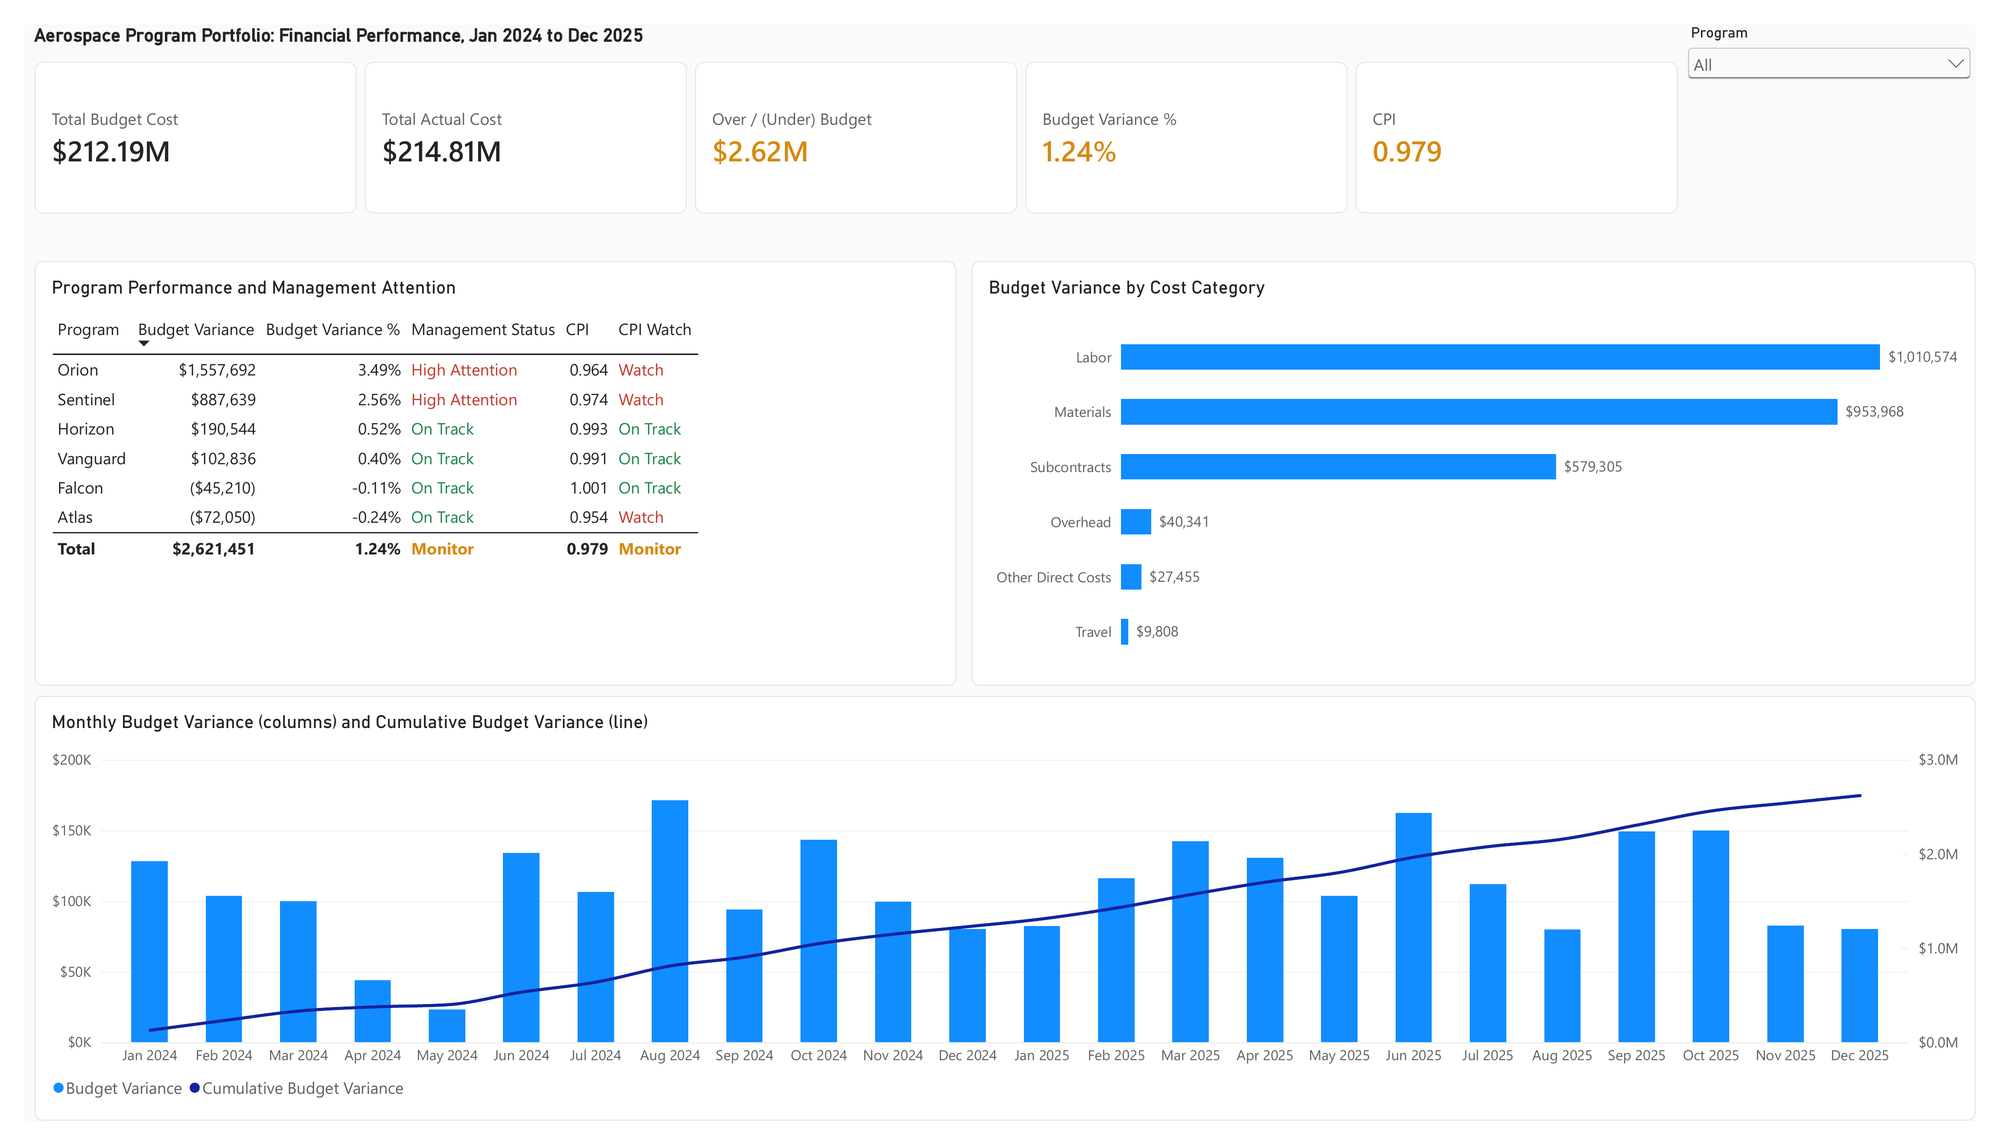

The page's visual inventory and layout, read from the dashboard file:
{"tool":"powerbi","page":{"name":"Page 1","canvas":[1920,1080],"ordinal":0},"visuals":[{"type":"cardVisual","title":"Aerospace Program Portfolio: Financial Performance, Jan 2024 to Dec 2025","fields":{"Data":["_Measures.Total Budget Cost","_Measures.Total Actual Cost","_Measures.Budget Variance","_Measures.Budget Variance %","_Measures.CPI"]},"box":[10.2,0,1621.8,186.2],"z":0},{"type":"tableEx","title":"Program Performance and Management Attention","fields":{"Values":["FactProgramFinancials.program_name","_Measures.Budget Variance","_Measures.Budget Variance %","_Measures.Management Status","_Measures.CPI","_Measures.CPI Watch"]},"box":[10.2,232.8,906.9,418.3],"z":1000},{"type":"clusteredBarChart","title":"Budget Variance by Cost Category","fields":{"Category":["FactProgramFinancials.cost_category"],"Y":["_Measures.Budget Variance"]},"box":[932.5,232.8,988,418],"z":2000},{"type":"lineClusteredColumnComboChart","title":"Monthly Budget Variance (columns) and Cumulative Budget Variance (line)","fields":{"Category":["DimDate.Year Month"],"Y":["_Measures.Budget Variance"],"Y2":["_Measures.Cumulative Budget Variance"]},"box":[10.2,660.9,1909.8,418.3],"z":3000},{"type":"slicer","fields":{"Values":["FactProgramFinancials.program_name"]},"box":[1632,0,288,186],"z":4000}]}

Visuals, with their boxes in screenshot pixels (x1, y1, x2, y2), scaled from the page's 1920x1080 canvas onto the 2000x1146 screenshot:
"Aerospace Program Portfolio: Financial Performance, Jan 2024 to Dec 2025" cardVisual: Rect(11, 0, 1700, 198)
"Program Performance and Management Attention" tableEx: Rect(11, 247, 955, 691)
"Budget Variance by Cost Category" clusteredBarChart: Rect(971, 247, 1999, 691)
"Monthly Budget Variance (columns) and Cumulative Budget Variance (line)" lineClusteredColumnComboChart: Rect(11, 701, 1999, 1145)
slicer - FactProgramFinancials.program_name: Rect(1700, 0, 1999, 197)
